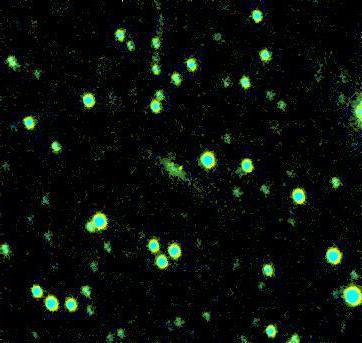star: (165, 149, 195, 179)
